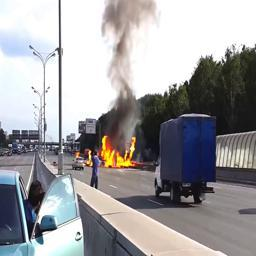fire: (88, 136, 141, 168)
